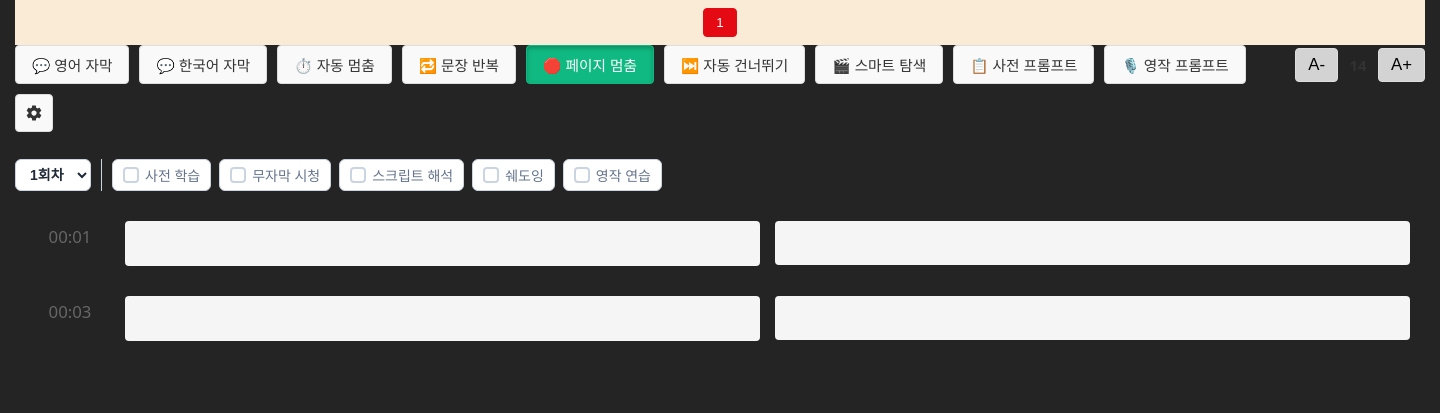
Test: 4.2-6 storage error notices › 4.4-2 retries the failed save when the daily free limit comes back
Click the text "사전 학습".
click(173, 175)  # box [145, 165, 200, 185]
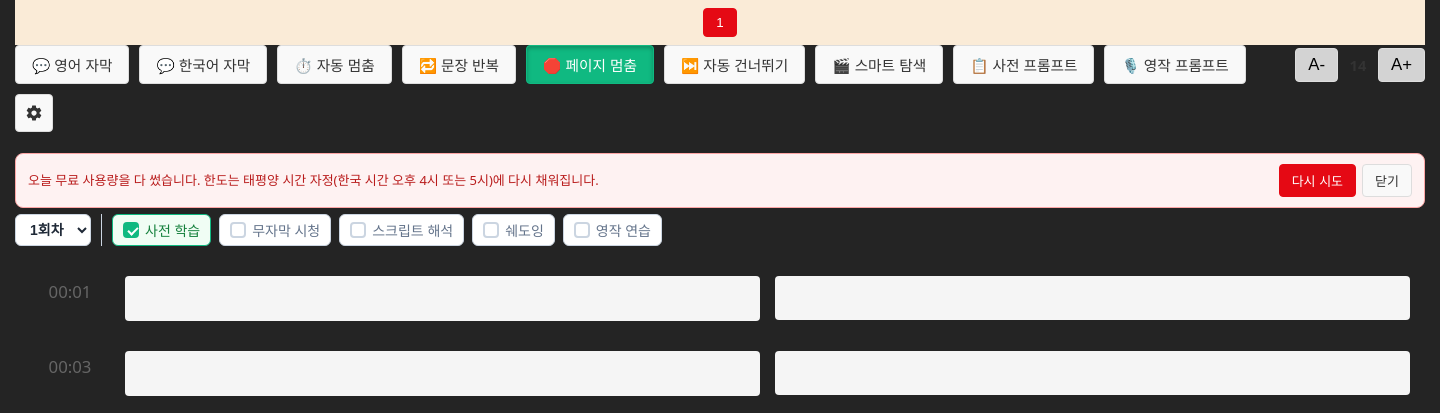
Expected: the message "오늘 무료 사용량을 다 썼습니다. 한도는 태평양 시간 자정(한국 시간 오후 4시 또는 5시)에 다시 채워집니다. 다시 시도 닫기" is shown, [15, 153, 1425, 208]
Click the button "다시 시도".
click(1317, 180)  # box [1279, 164, 1356, 197]
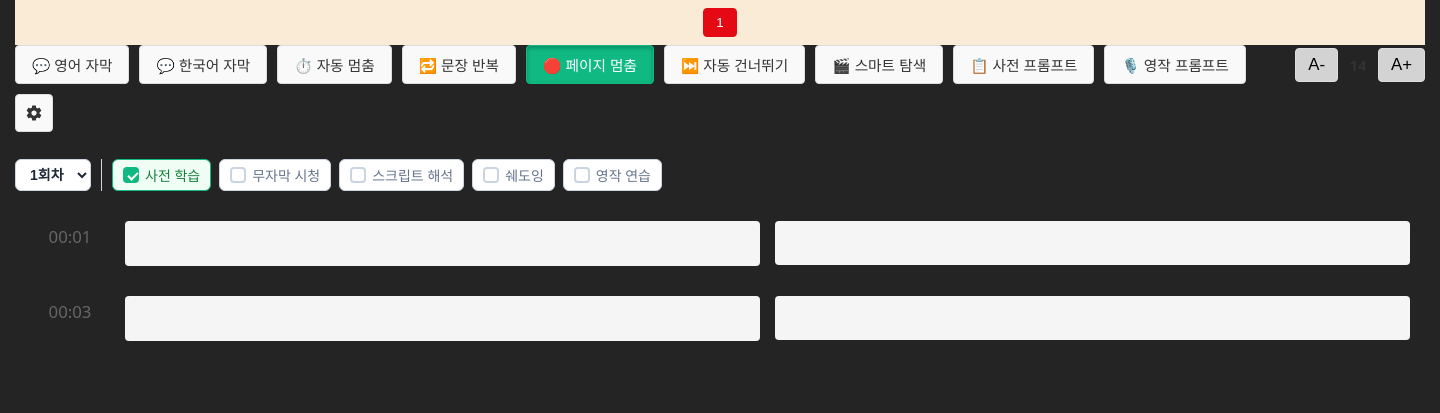
Expected: the message "오늘 무료 사용량을 다 썼습니다. 한도는 태평양 시간 자정(한국 시간 오후 4시 또는 5시)에 다시 채워집니다. 다시 시도 닫기" is gone
